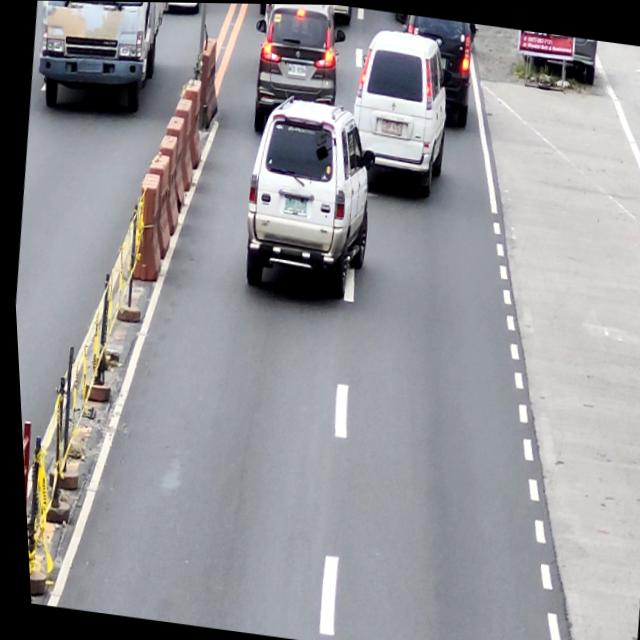Car: (230, 89, 385, 303), (338, 21, 458, 200), (242, 3, 354, 140), (393, 13, 478, 128)
License-Plate: (280, 194, 307, 215), (379, 117, 402, 135), (284, 60, 306, 76)
